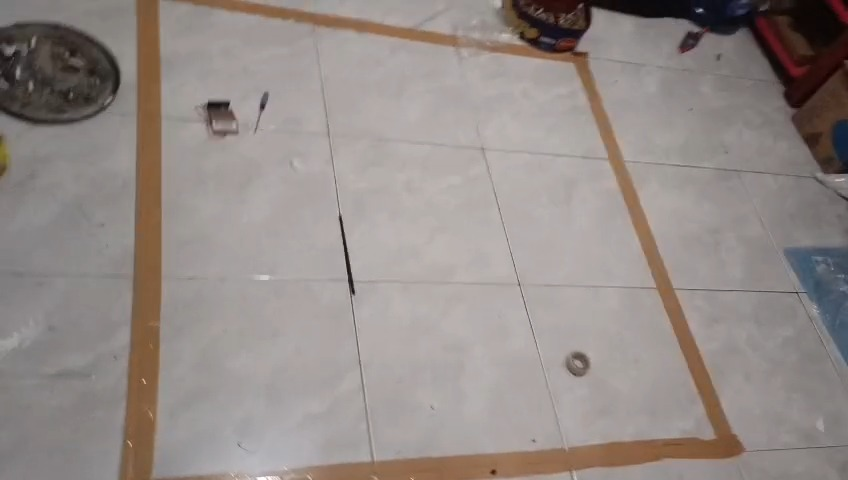floor marking: (279, 43, 743, 479), (120, 1, 161, 479), (188, 0, 461, 47)
